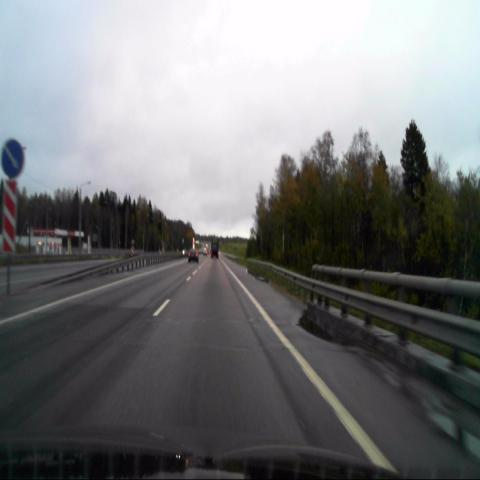4_2_1: (2, 140, 24, 177)
